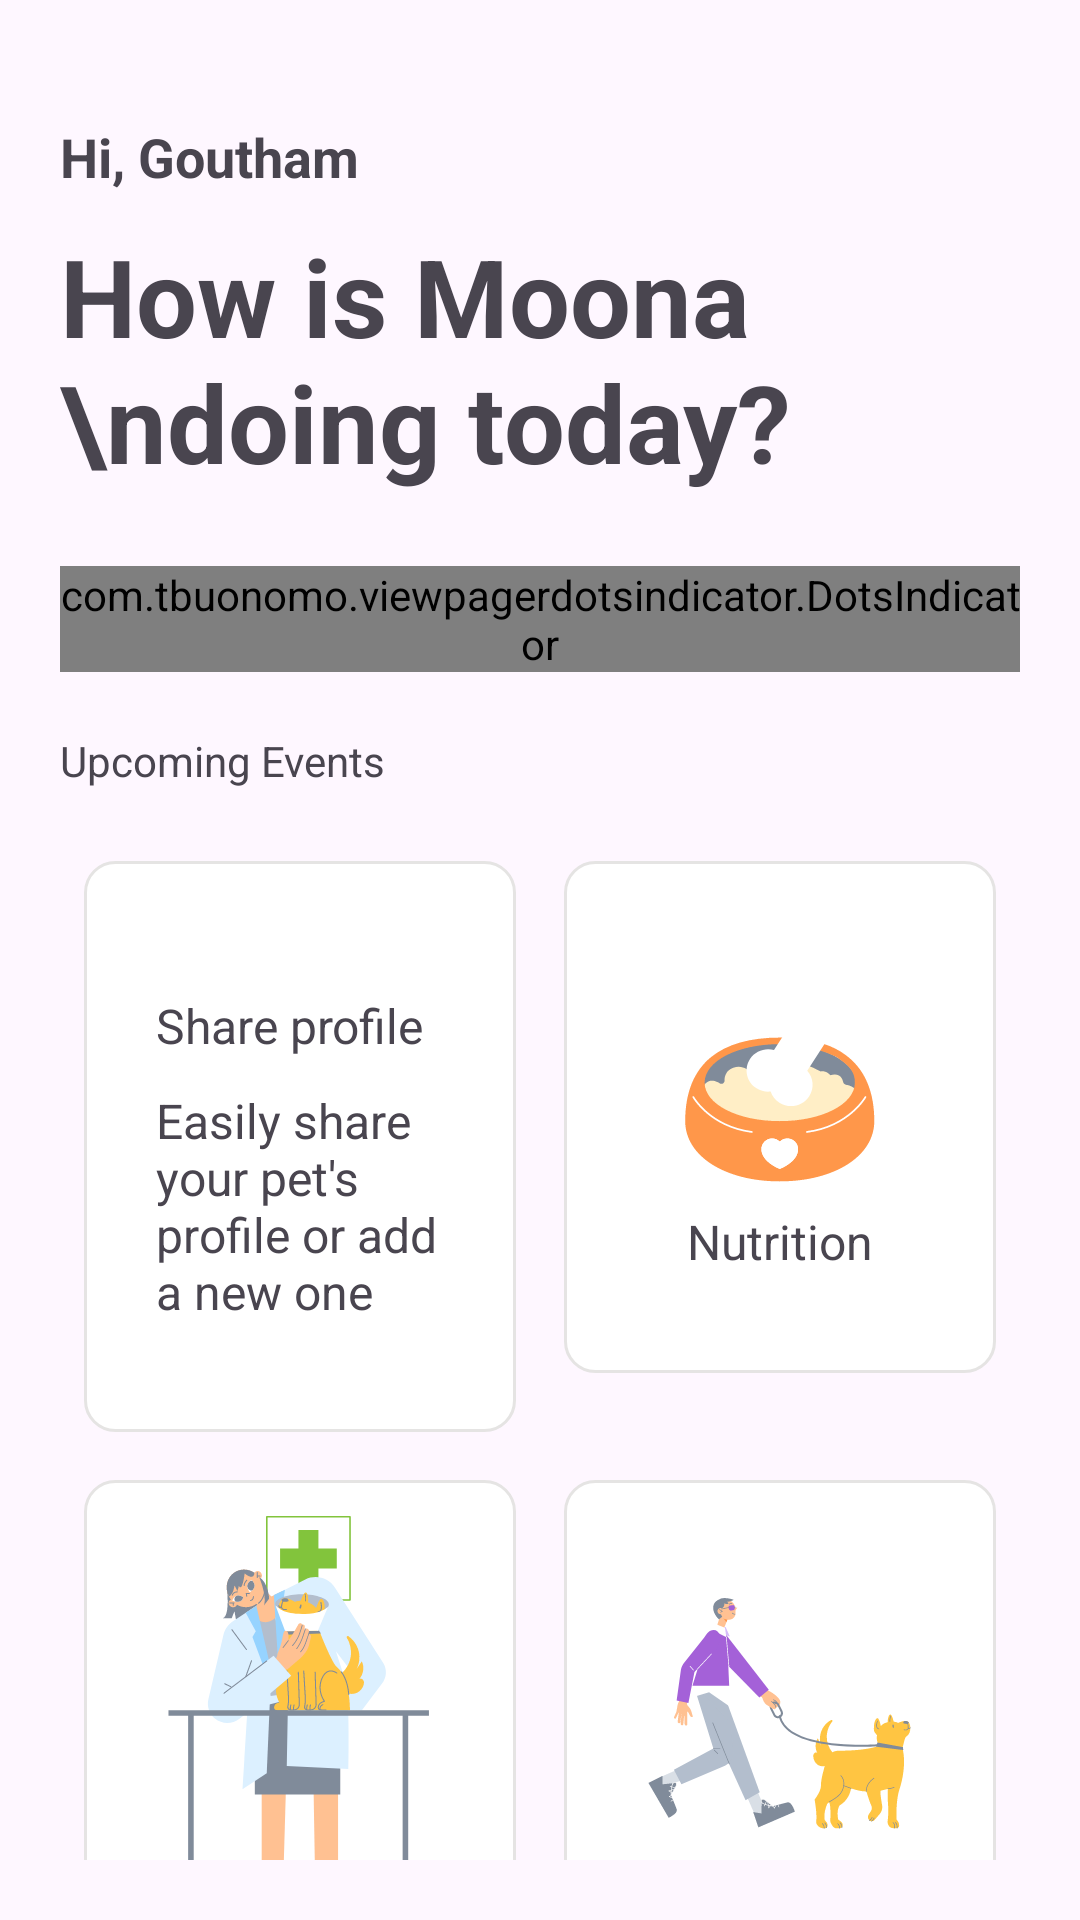

Point at icon controls on the screen. Image size 1080×1920, points as (x=x, y=y).
activities card: (x=779, y=1713)
